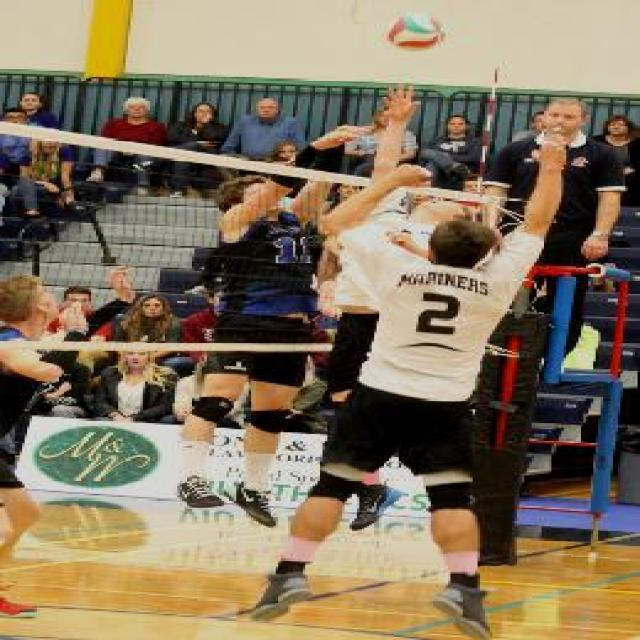volleyball: (386, 12, 446, 52)
